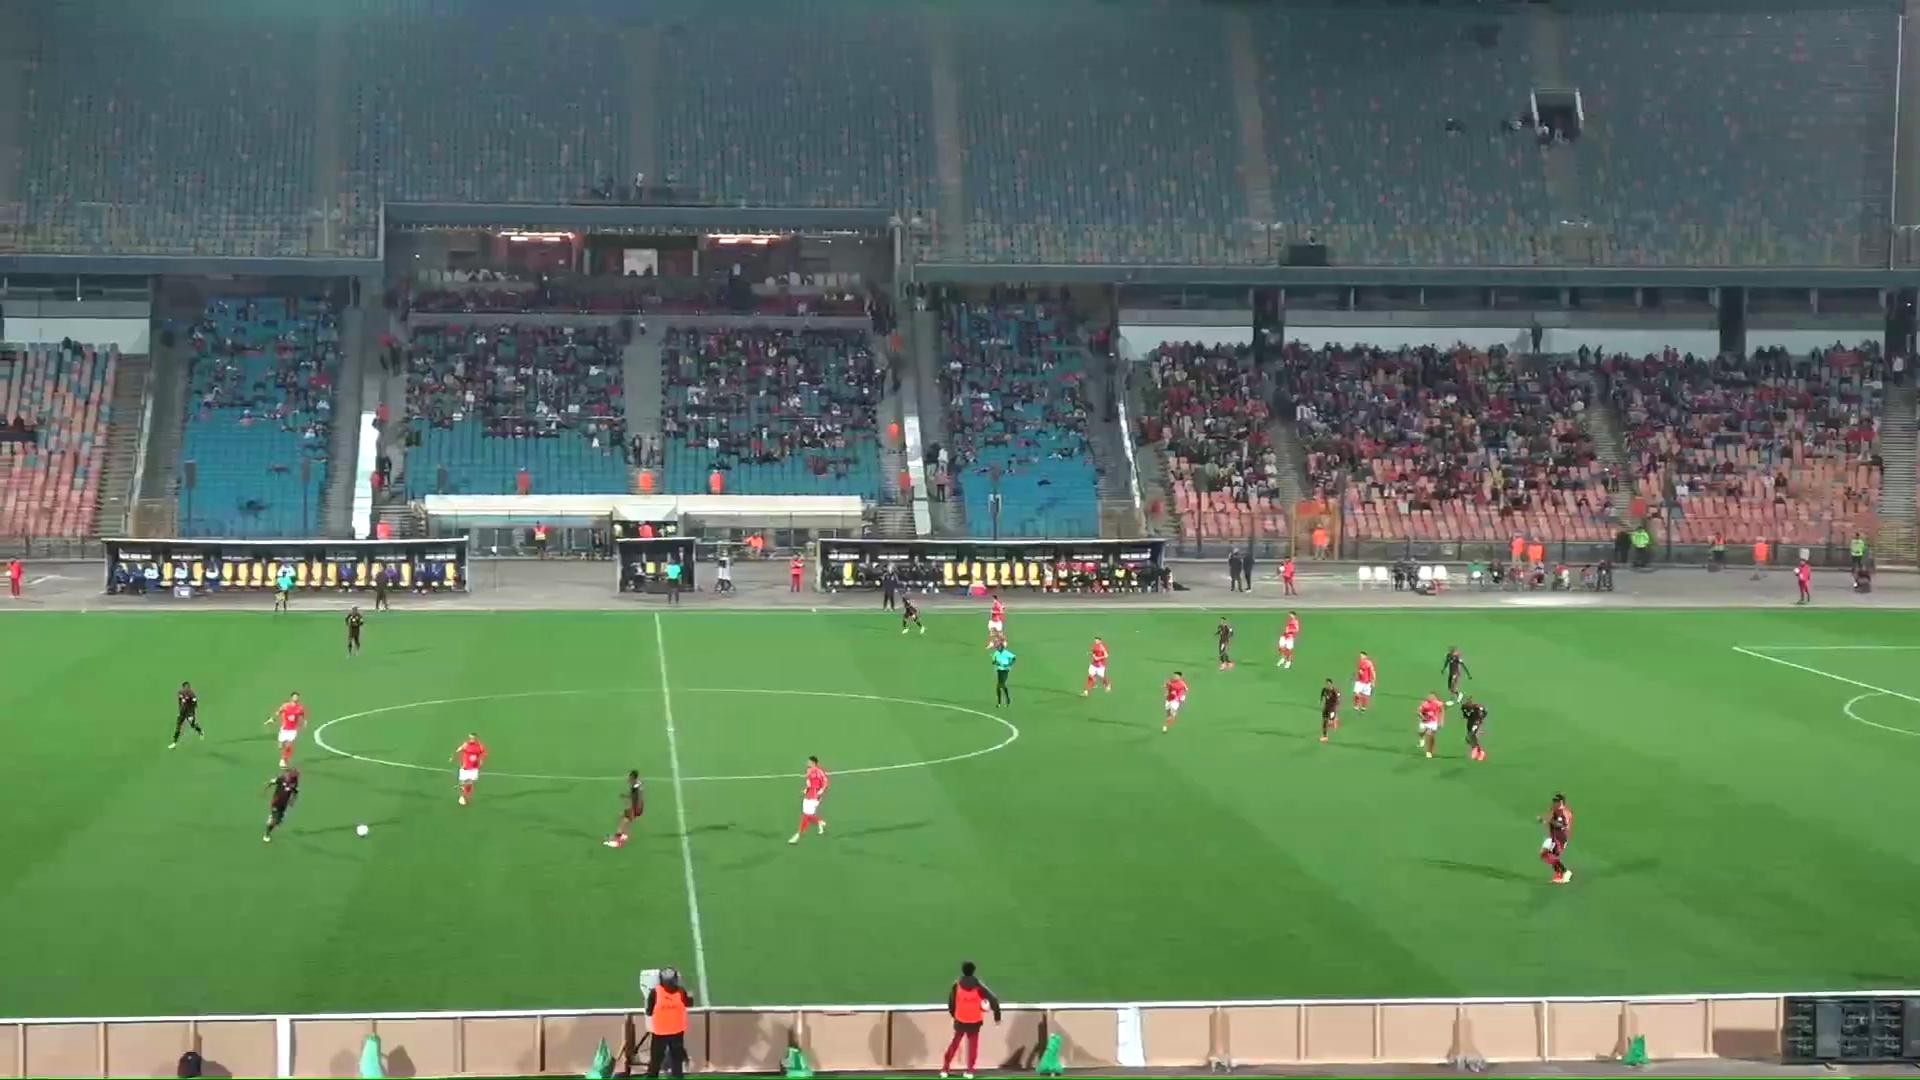Ball: (353, 824, 371, 837)
Refree: (651, 553, 694, 604), (986, 637, 1017, 707), (273, 564, 295, 612)
Team1: (789, 756, 829, 843), (266, 694, 307, 767), (454, 735, 487, 804), (1418, 692, 1448, 757), (1081, 637, 1112, 696), (1162, 671, 1188, 731), (1350, 653, 1375, 712), (1276, 611, 1302, 669), (986, 593, 1005, 647)
Team2: (1540, 793, 1575, 882), (604, 770, 644, 847), (262, 767, 301, 843), (167, 680, 203, 746), (1456, 696, 1487, 760), (1440, 645, 1472, 702), (1317, 678, 1341, 742), (899, 593, 927, 634), (1216, 617, 1234, 669), (345, 605, 363, 653)
